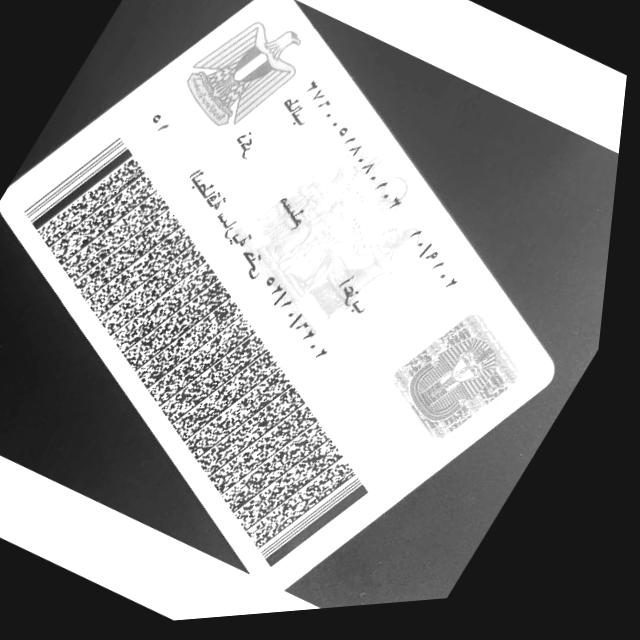back: (0, 0, 551, 586)
